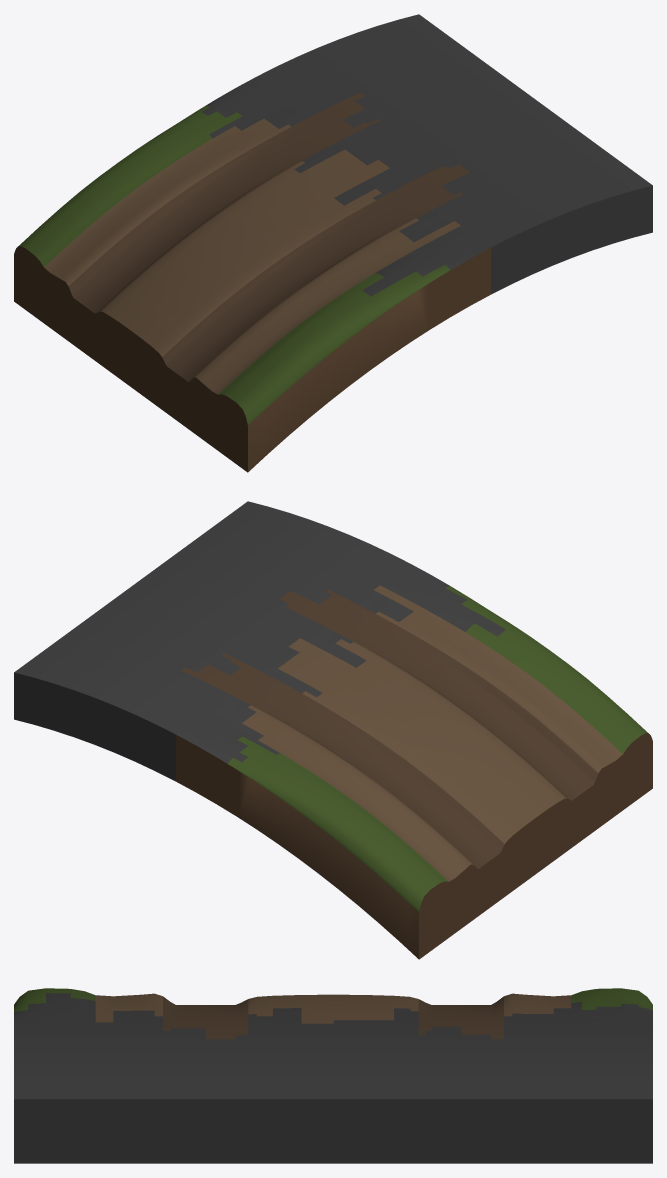
3 views of the same model, one above another, from view 1: azimuth 30°, elevation 25°; view 2: azimuth 150°, elevation 25°; view 3: azimuth 270°, elevation 25° (orthographic). The views are drawn at different scales.
Visible parts, largest first — view 1: e3t; view 2: e3t; view 3: e3t.
Part boxes in pixels (box(x1,y1,x2,y2)): e3t: box(14, 14, 652, 472); e3t: box(14, 501, 652, 959); e3t: box(14, 988, 652, 1163).
Size of the model in its own units: 9 by 4 by 9.
